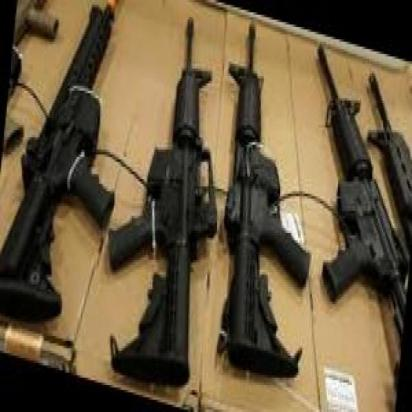Gun: (106, 0, 218, 383)
